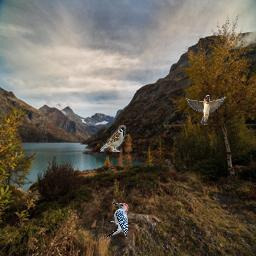Sparrow: (100, 125, 126, 152)
Swallow: (186, 95, 226, 125)
Woodpecker: (104, 201, 130, 241)
